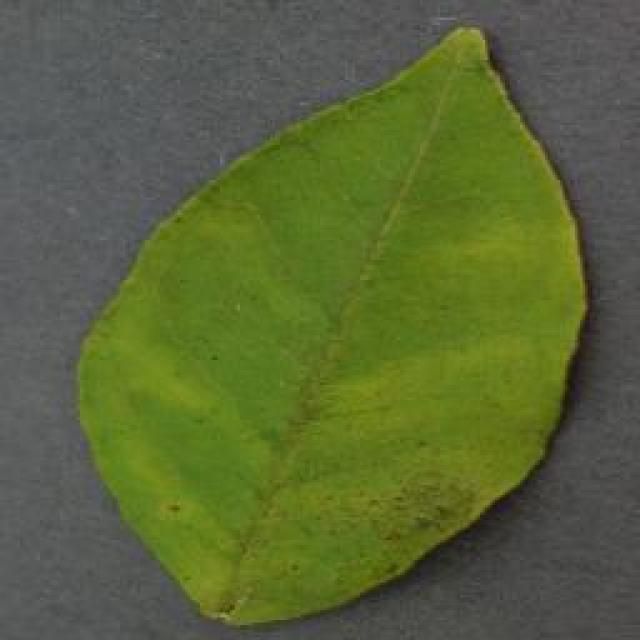Orange_Haunglongbing_Citrus_greening: (119, 128, 565, 570)
